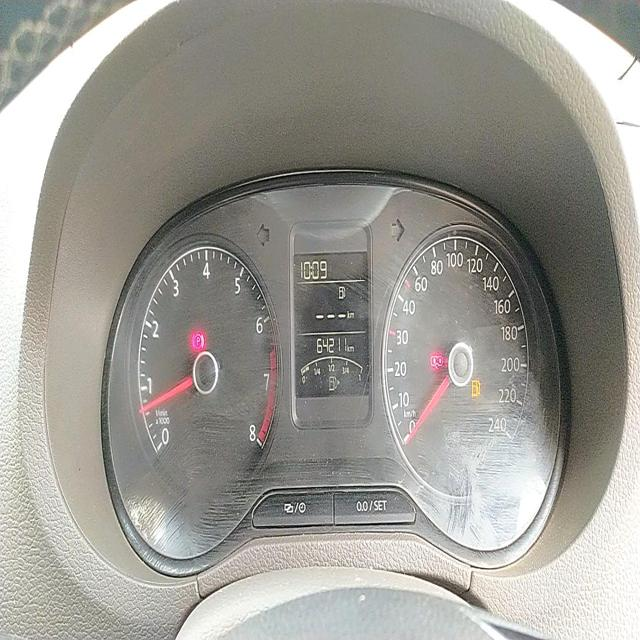odometer: (314, 334, 348, 357)
